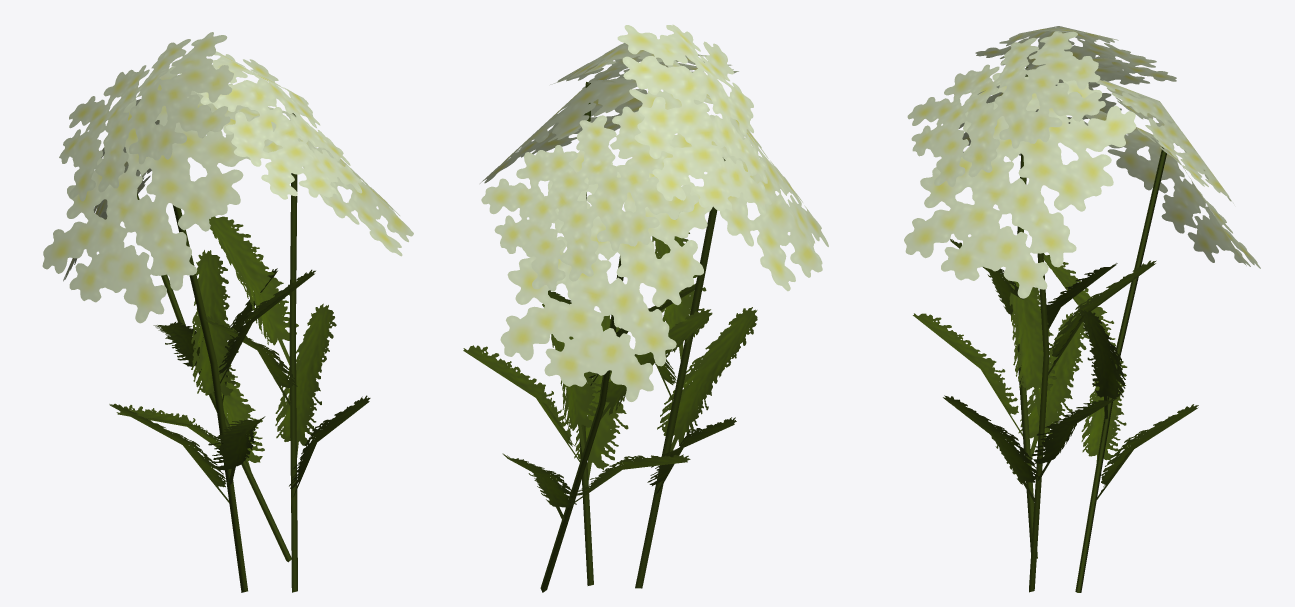
The model's file is Filipendula.fbx.
3 views of the same model, side by side, from view 1: azimuth 30°, elevation 25°; view 2: azimuth 150°, elevation 25°; view 3: azimuth 270°, elevation 25° (orthographic). The views are drawn at different scales.
Parts seen in each view (by area): view 1: Filipendula; view 2: Filipendula; view 3: Filipendula.
Boxes of the visible parts, <box> form: Filipendula: <box>42,32,413,592</box>; Filipendula: <box>463,24,828,592</box>; Filipendula: <box>904,26,1260,592</box>.
Bounding box in the file's own units: 40.08 × 60 × 40.48.
